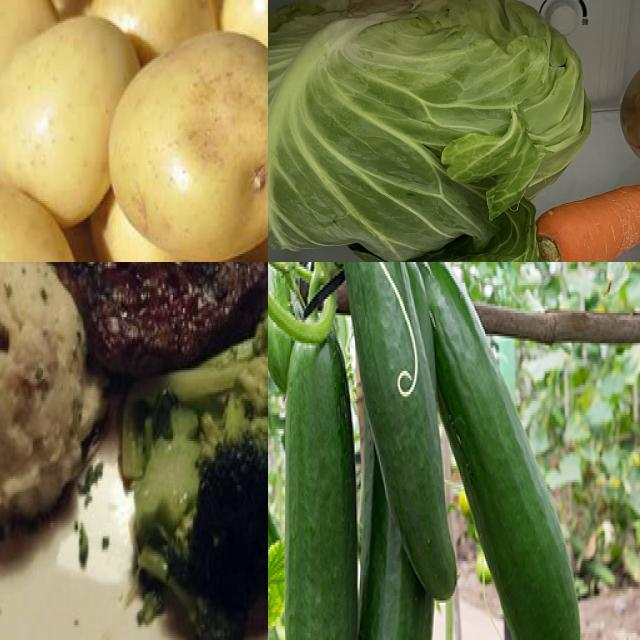cabbage: (269, 1, 598, 263)
carrot: (534, 168, 640, 263)
cucumber: (413, 263, 588, 640), (345, 263, 459, 605), (280, 311, 358, 640), (355, 402, 434, 640)
potato: (108, 33, 269, 256), (1, 8, 139, 228)
